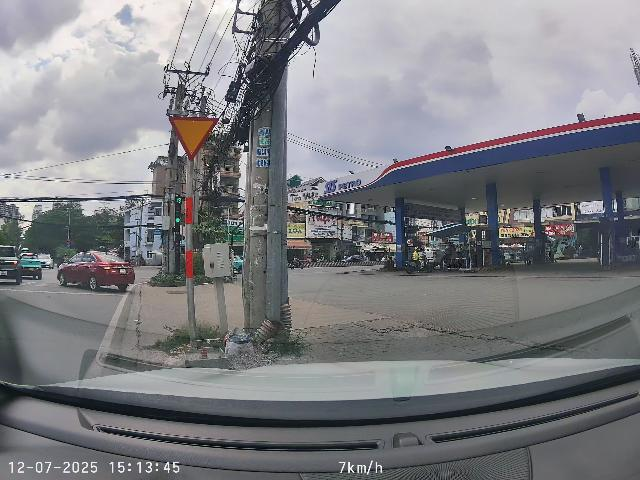208-giao-nhau-voi-duong-uu-tien: (169, 116, 218, 160)
